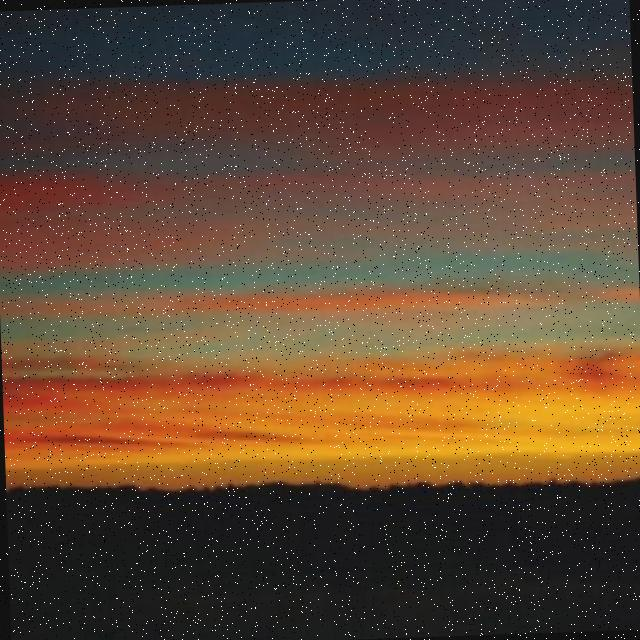Ci: (1, 3, 640, 461)
